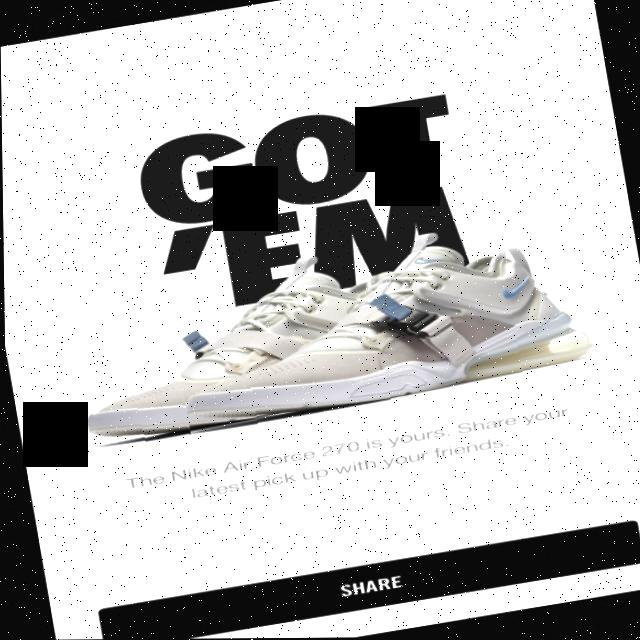shoe: (163, 221, 604, 437), (41, 254, 366, 456)
